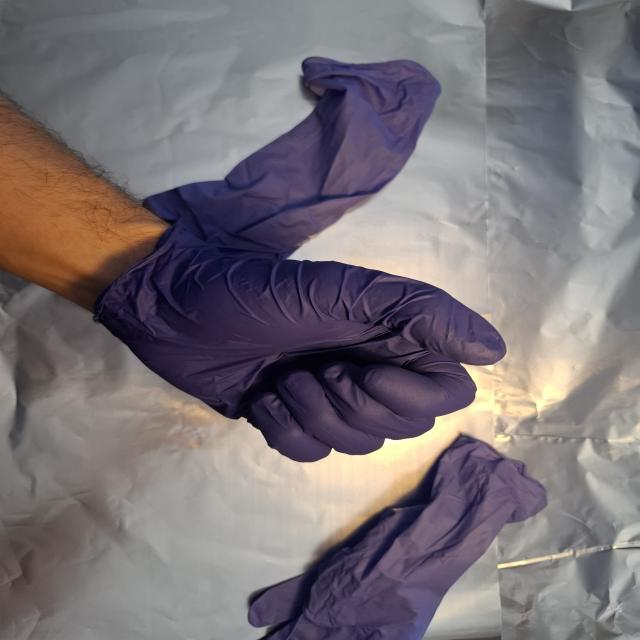glove_on: (91, 227, 513, 466)
